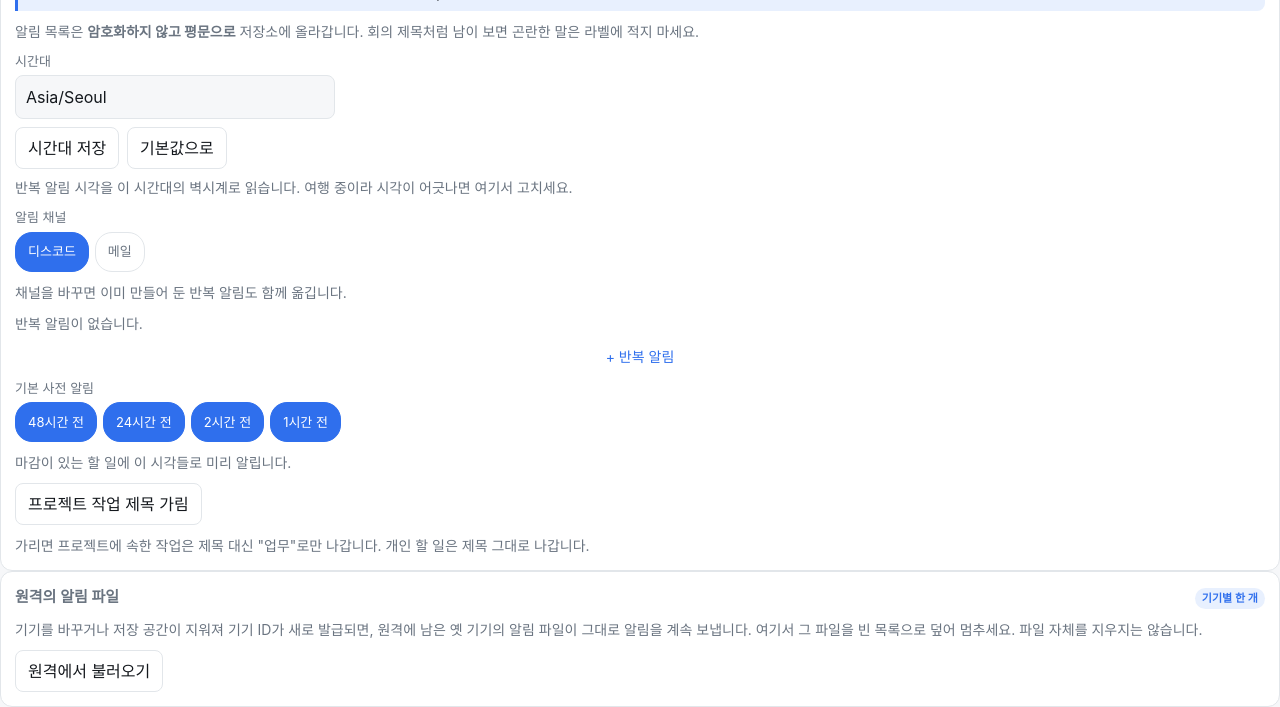
Test case: 알림 설정 — 좀비 알림 파일 비우기 › 원격의 알림 파일을 늘어놓고 이 기기를 구분해 보여준다
(page scrolled)
Click the button "원격에서 불러오기".
click(89, 671)  # box [15,650,163,692]
(page scrolled)
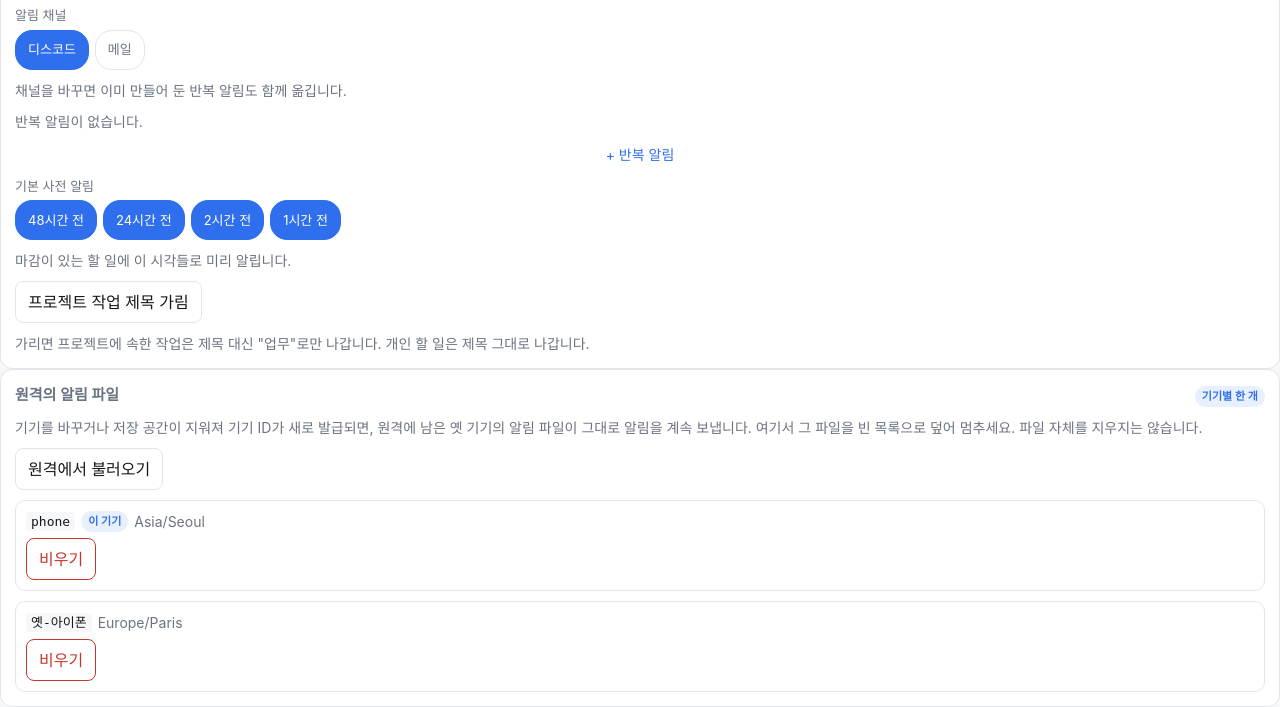
Expected: the text "이 기기" is shown, [81,511,128,532]
